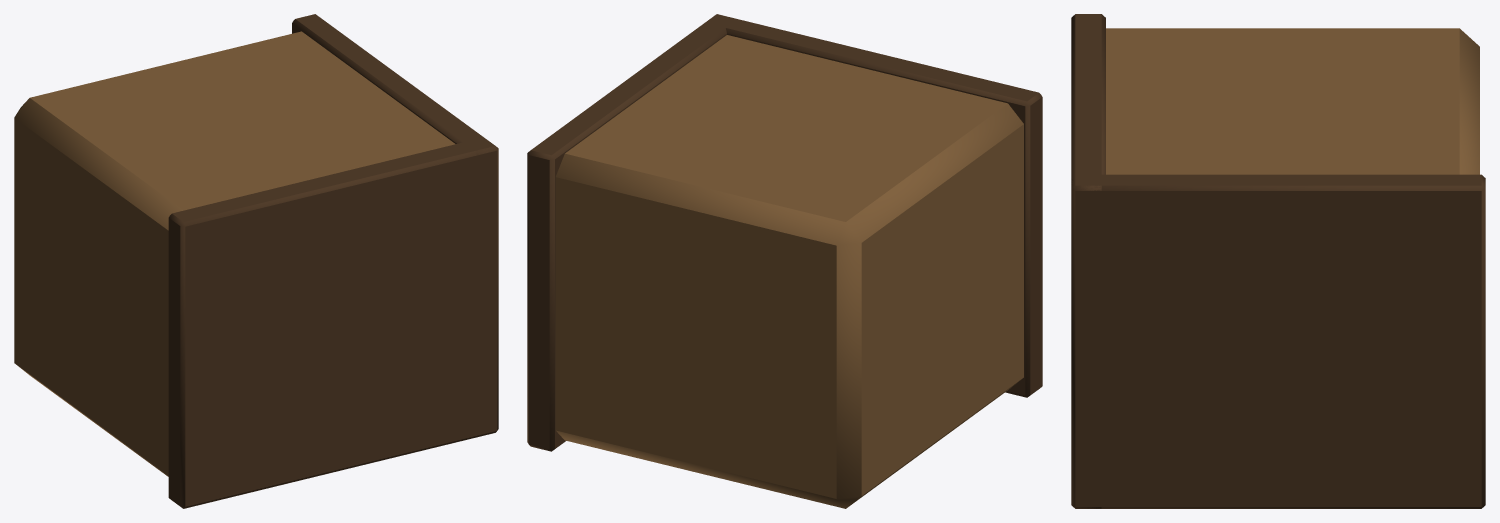
Rendered from crate.glb.
3 views of the same model, side by side, from view 1: azimuth 30°, elevation 25°; view 2: azimuth 150°, elevation 25°; view 3: azimuth 270°, elevation 25° (orthographic). The views are drawn at different scales.
Visible parts, largest first — view 1: building; view 2: building; view 3: building.
Part boxes in pixels (bbox=[...]): building: bbox=[14, 14, 498, 508]; building: bbox=[527, 14, 1042, 508]; building: bbox=[1071, 14, 1485, 508].
Size of the model in its own units: 0.72 by 0.62 by 0.72.
